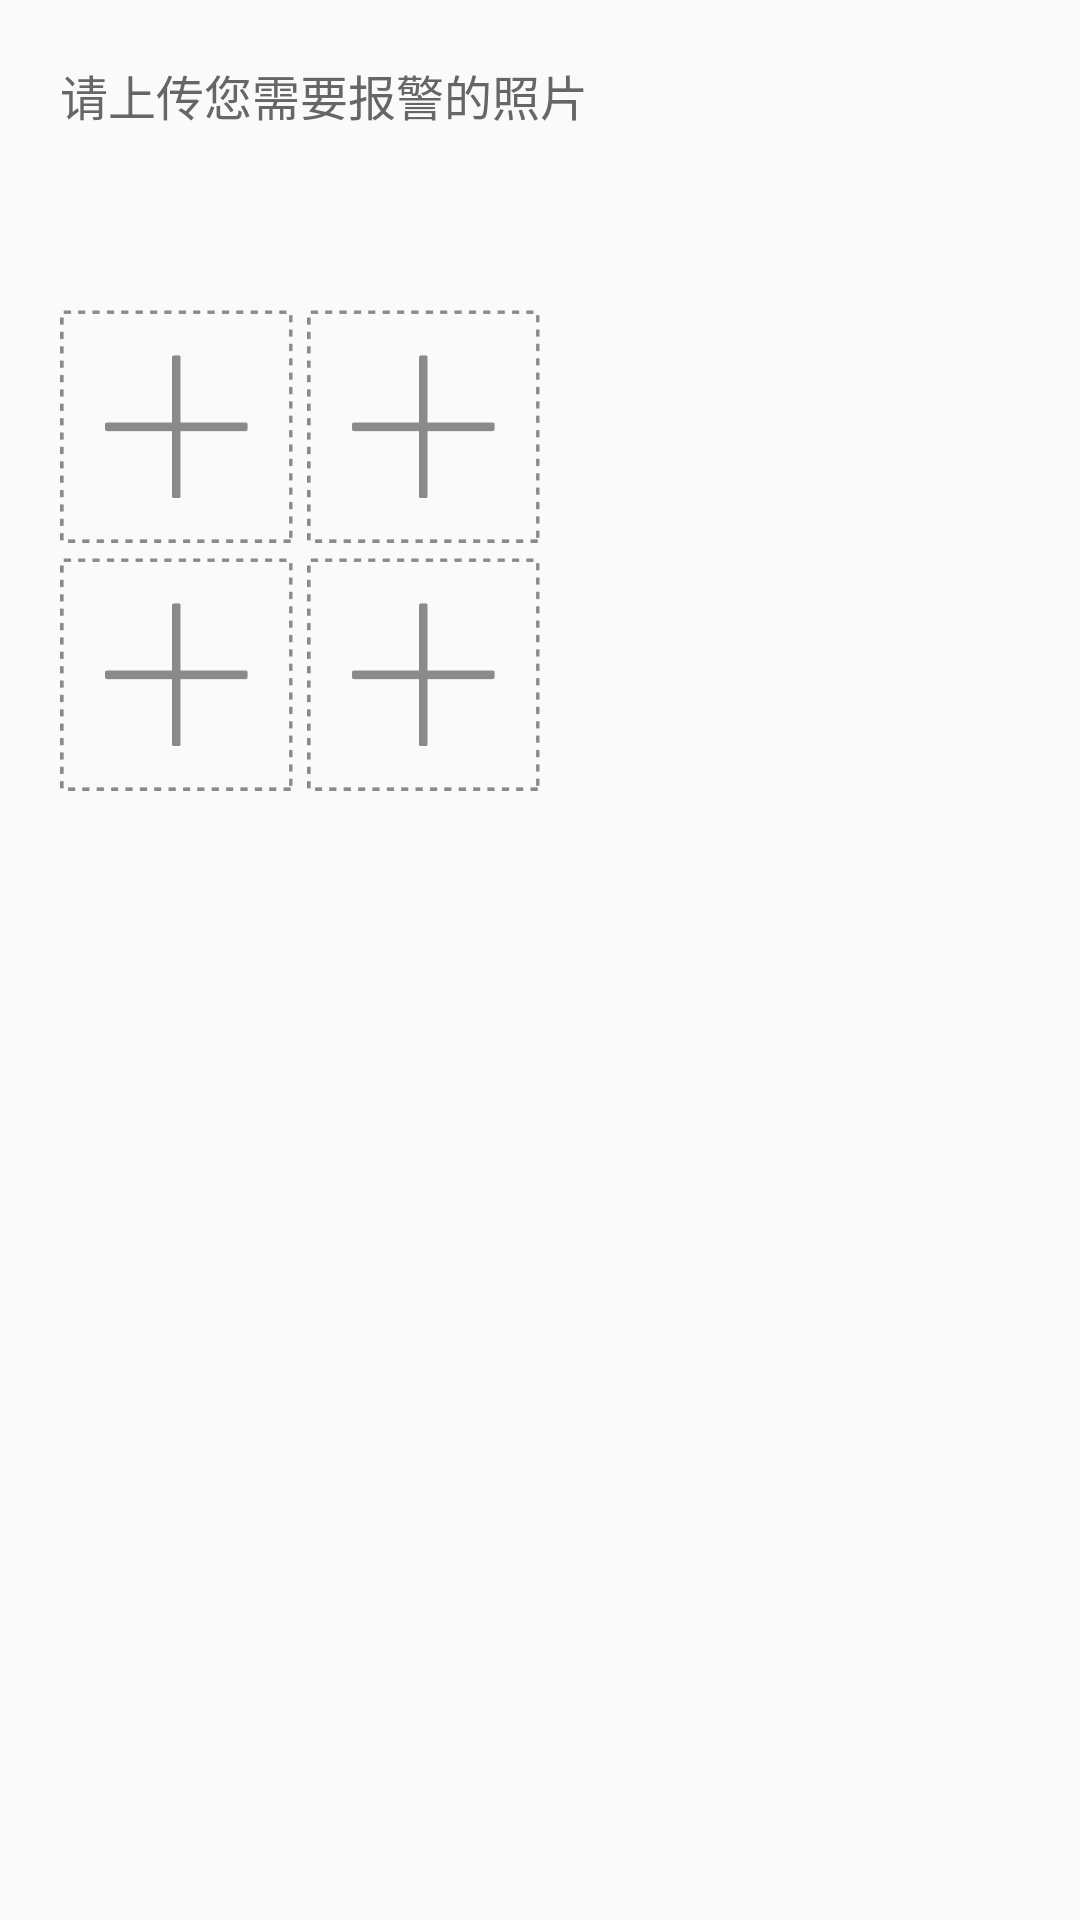

Icons on this 1080 × 1920 Android screen, each with the point to tap as (x,y):
add: (176,426), (423,426), (176,674), (423,674)
